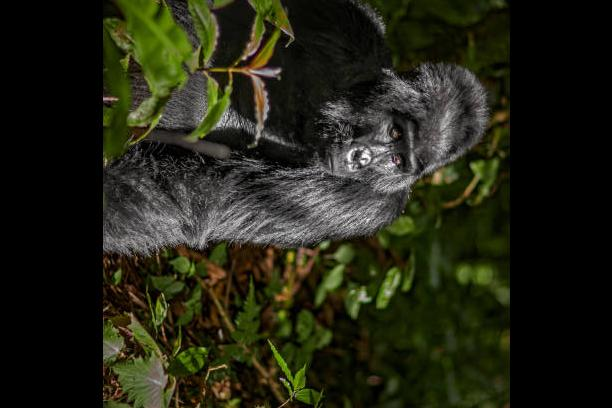goriile_montagne: (102, 0, 488, 273)
